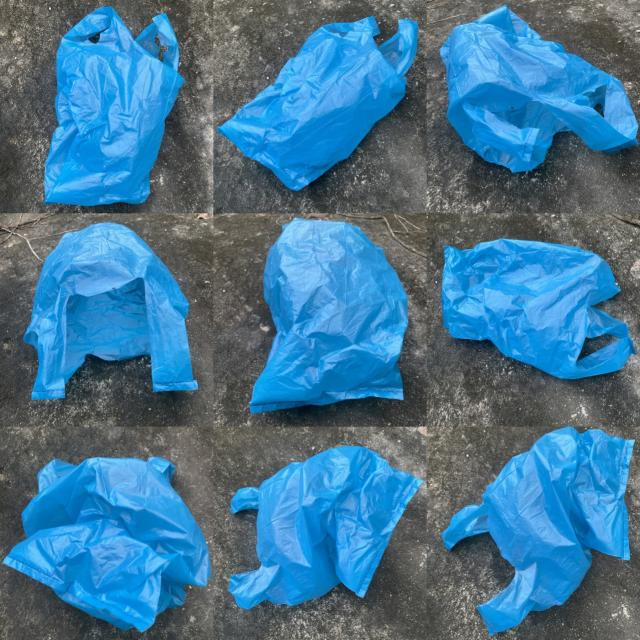Single-layer Plastic: (442, 428, 634, 634), (4, 458, 211, 631), (219, 16, 418, 189), (440, 6, 638, 172), (229, 446, 422, 608), (24, 222, 198, 400), (250, 218, 408, 412), (45, 6, 184, 206), (441, 239, 635, 379)
